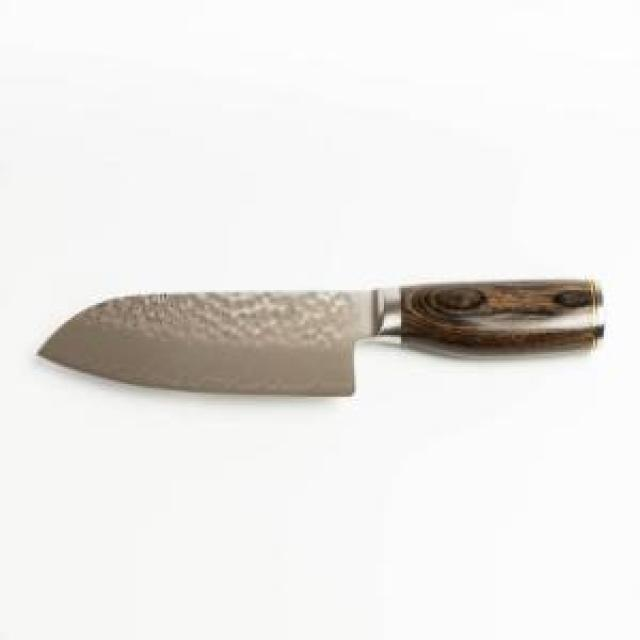knife: (32, 277, 606, 399)
